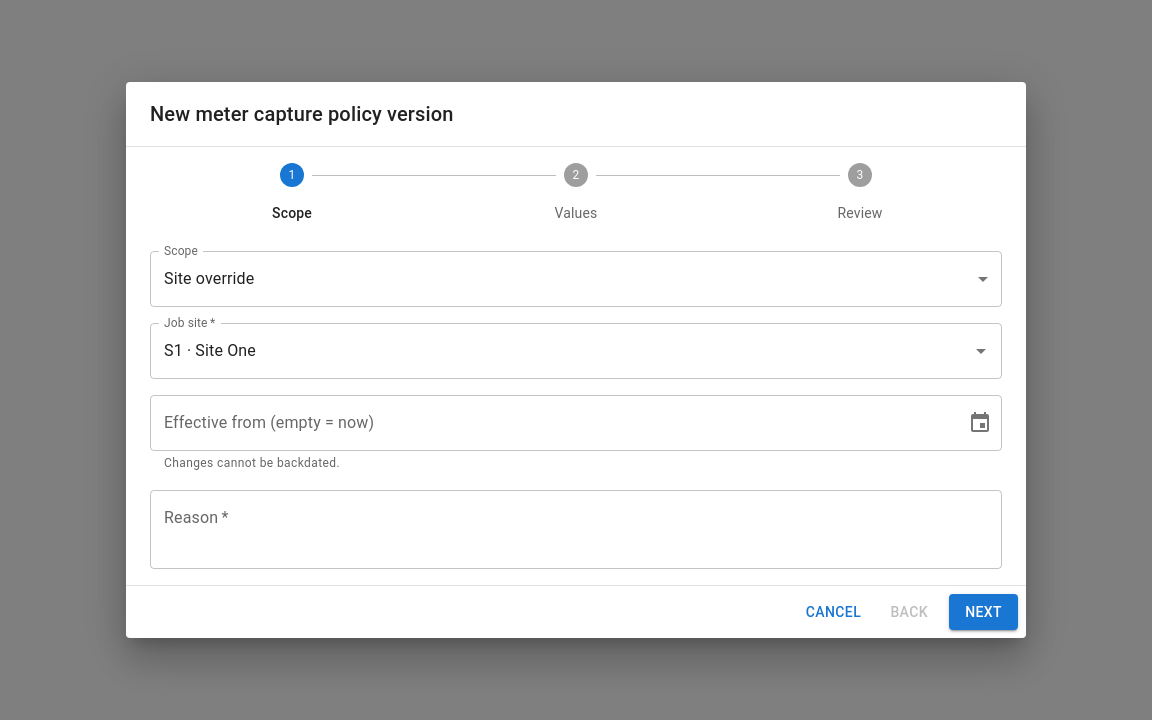
PolicyOverrideDialog · METER_CAPTURE / HIRE_BILLING › limits site overrides to GPS accuracy and tracker distance
Type "Manual closing at quarry" into the text box labelled "Reason *". click: (576, 529)
box: left=164, top=506, right=988, bottom=552
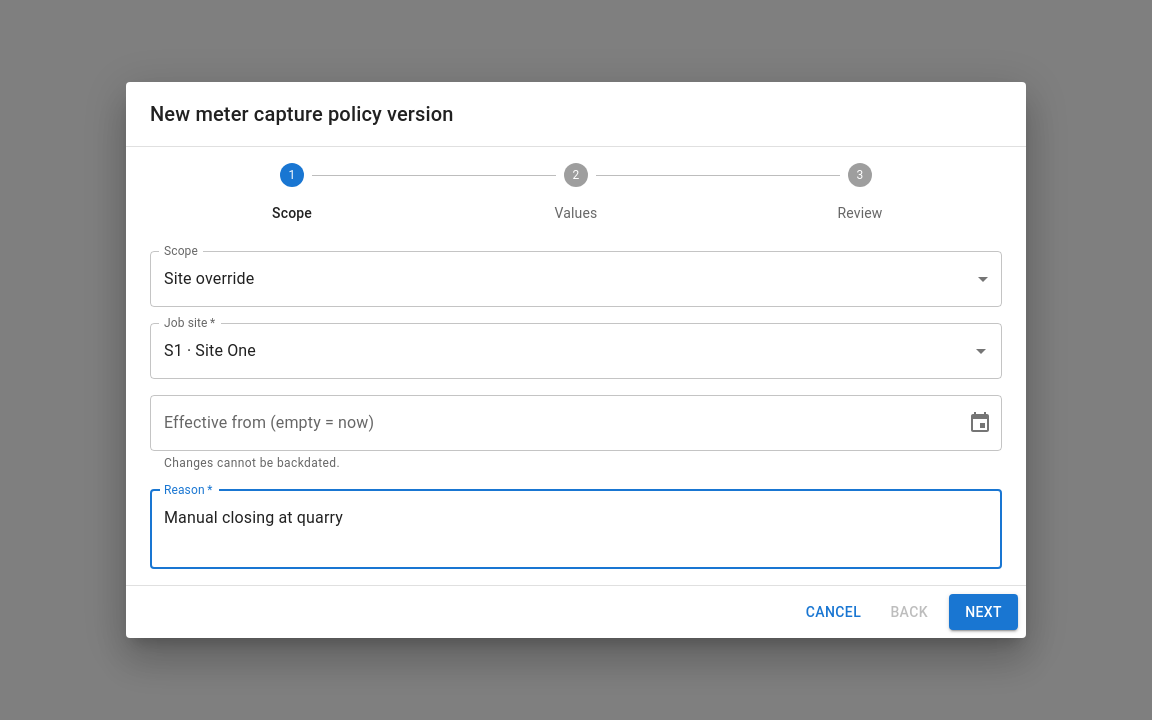
Click the button "Next". click: (984, 612)
box: left=949, top=594, right=1018, bottom=630
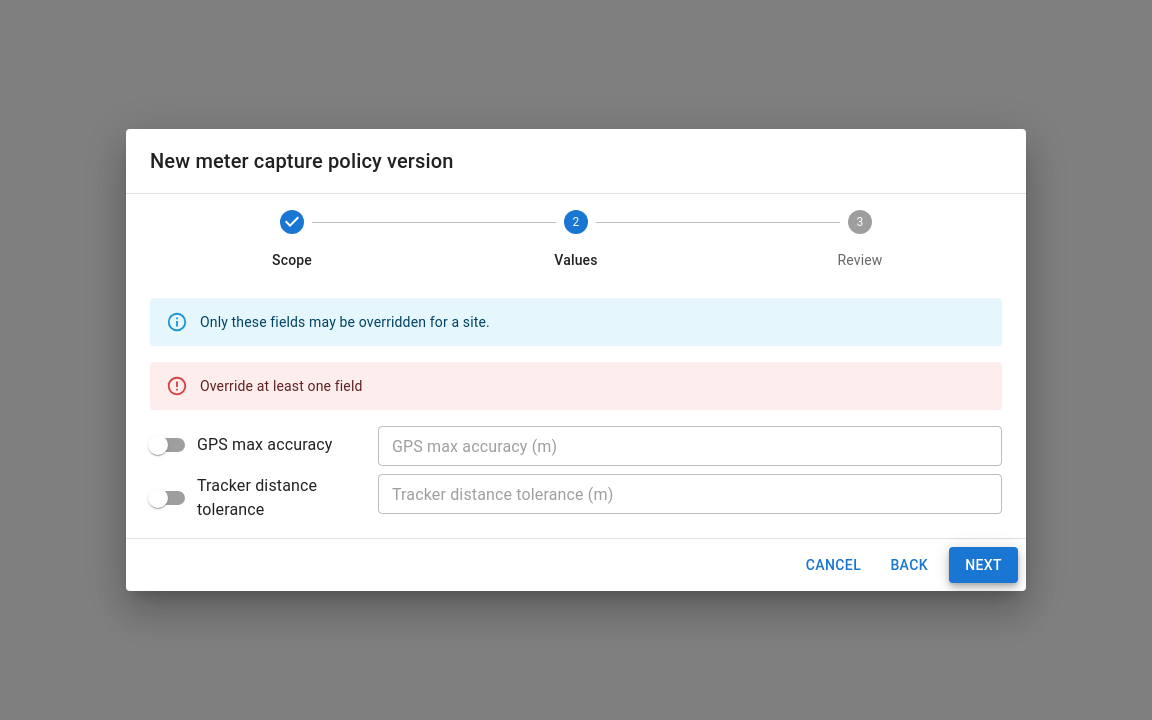
Expected: the switch named "Override GPS max accuracy" is shown, left=148, top=435, right=332, bottom=455
